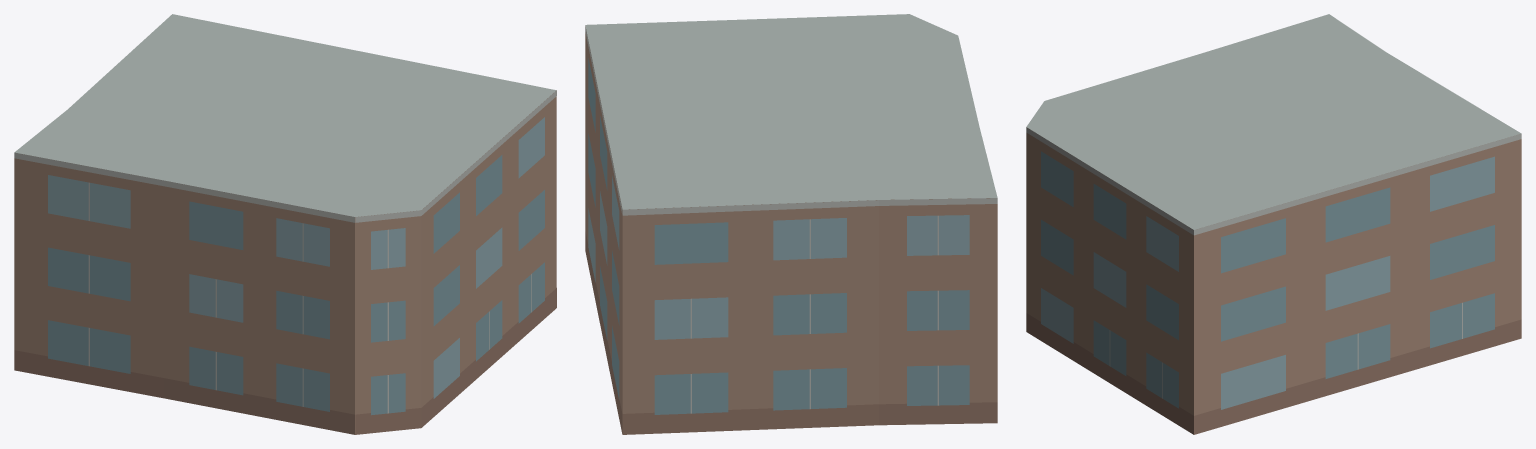
File: survey-upis-32812124.glb
3 renders of one model, left to right at view 1: azimuth 30°, elevation 25°; view 2: azimuth 150°, elevation 25°; view 3: azimuth 270°, elevation 25°, orthographic. The views are drawn at different scales.
Visible parts, largest first — view 1: survey-upis-32812124.tmp; view 2: survey-upis-32812124.tmp; view 3: survey-upis-32812124.tmp.
Boxes of the visible parts, left/top/right/bottom form: survey-upis-32812124.tmp: left=14, top=14, right=556, bottom=434; survey-upis-32812124.tmp: left=585, top=14, right=997, bottom=434; survey-upis-32812124.tmp: left=1026, top=14, right=1521, bottom=434.
Bounding box in the file's own units: 20.7 × 9.15 × 20.06.
